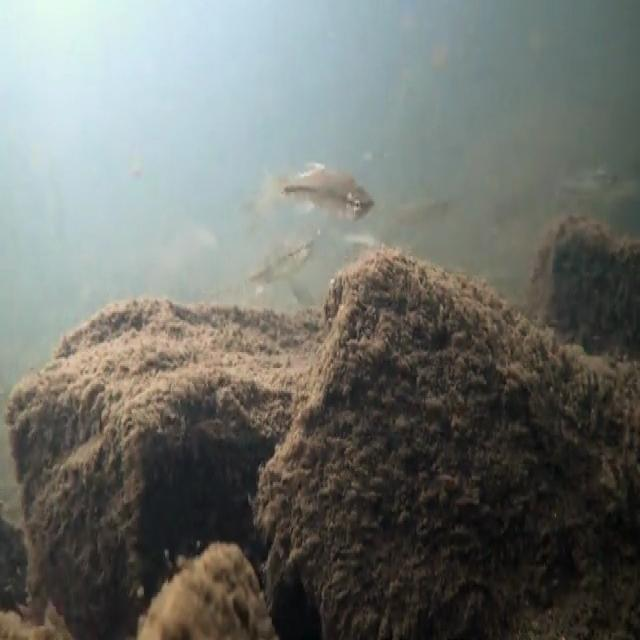Cakil Baligi: (249, 162, 376, 229)
